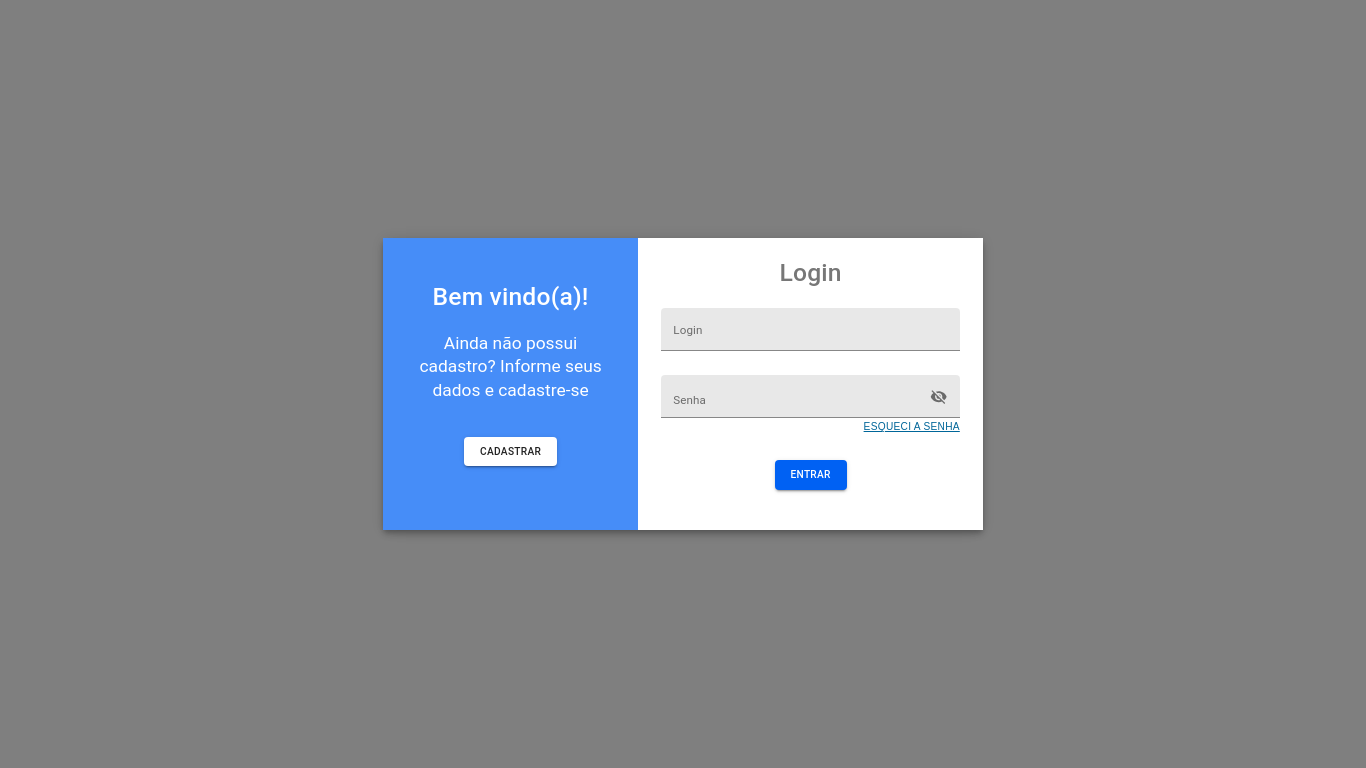
it: Should change modal content based on button clicks
Check: the field labelled "Login" is shown, box [661,308,960,351]
Check: the text "Cadastrar" is shown, box [480,442,541,460]
Click the button "Cadastrar". click: (511, 451)
box: [464,436,557,466]
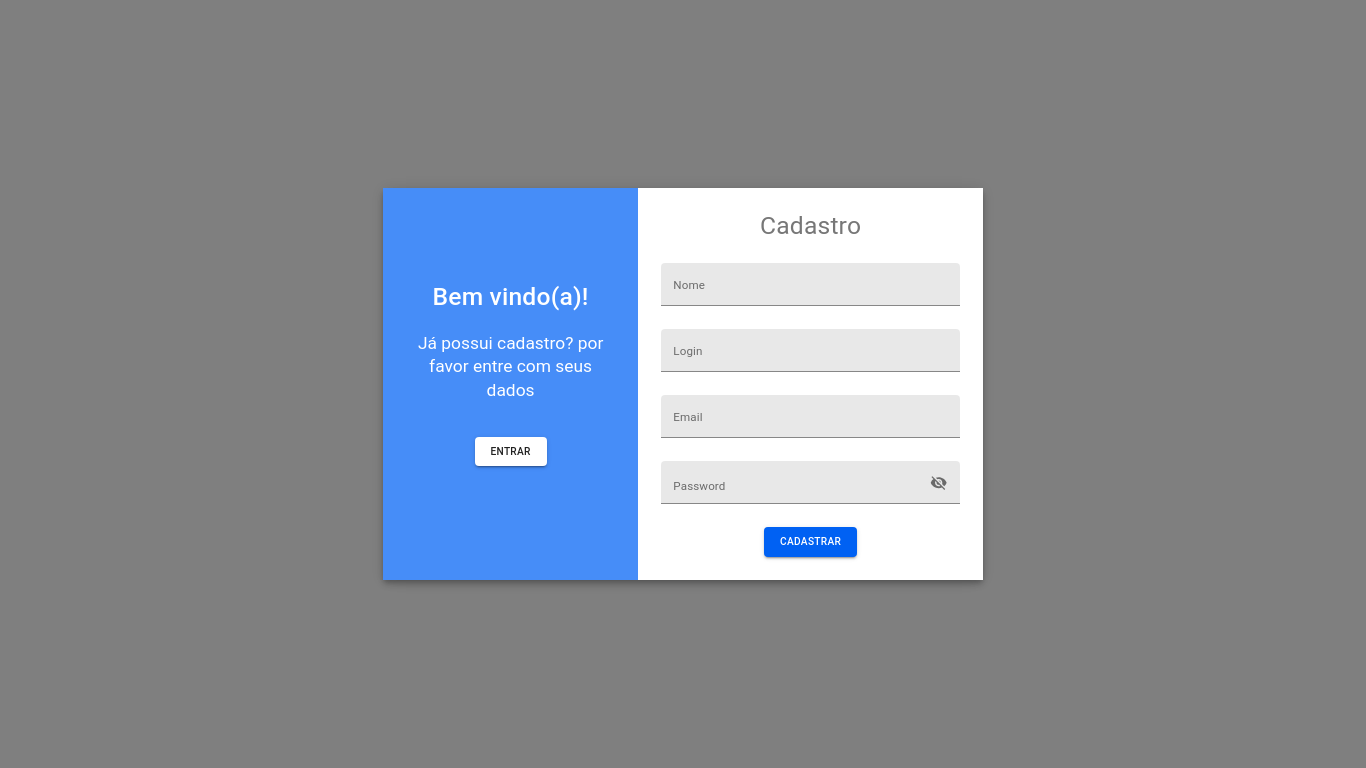
Check: the text "Entrar" is shown, box [490,443,531,460]
Check: the element with test id "form" is shown, box [638,188,983,580]
Click the button "Entrar". click: (511, 452)
box: [474,437,547,466]
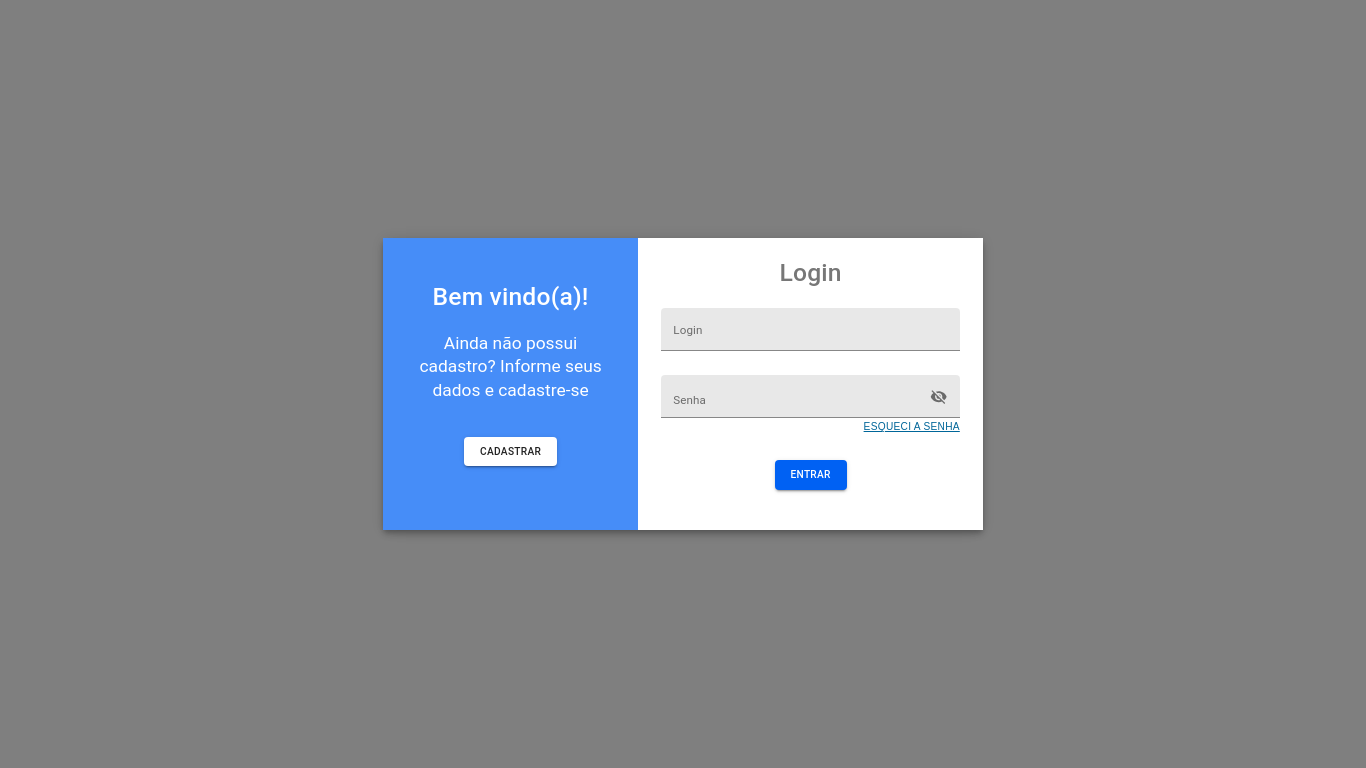
Check: the field labelled "Login" is shown, box [661,308,960,351]
Check: the text "Esqueci a Senha" is shown
Click the button "Esqueci a Senha". click: (912, 427)
box: [864,418,960,436]
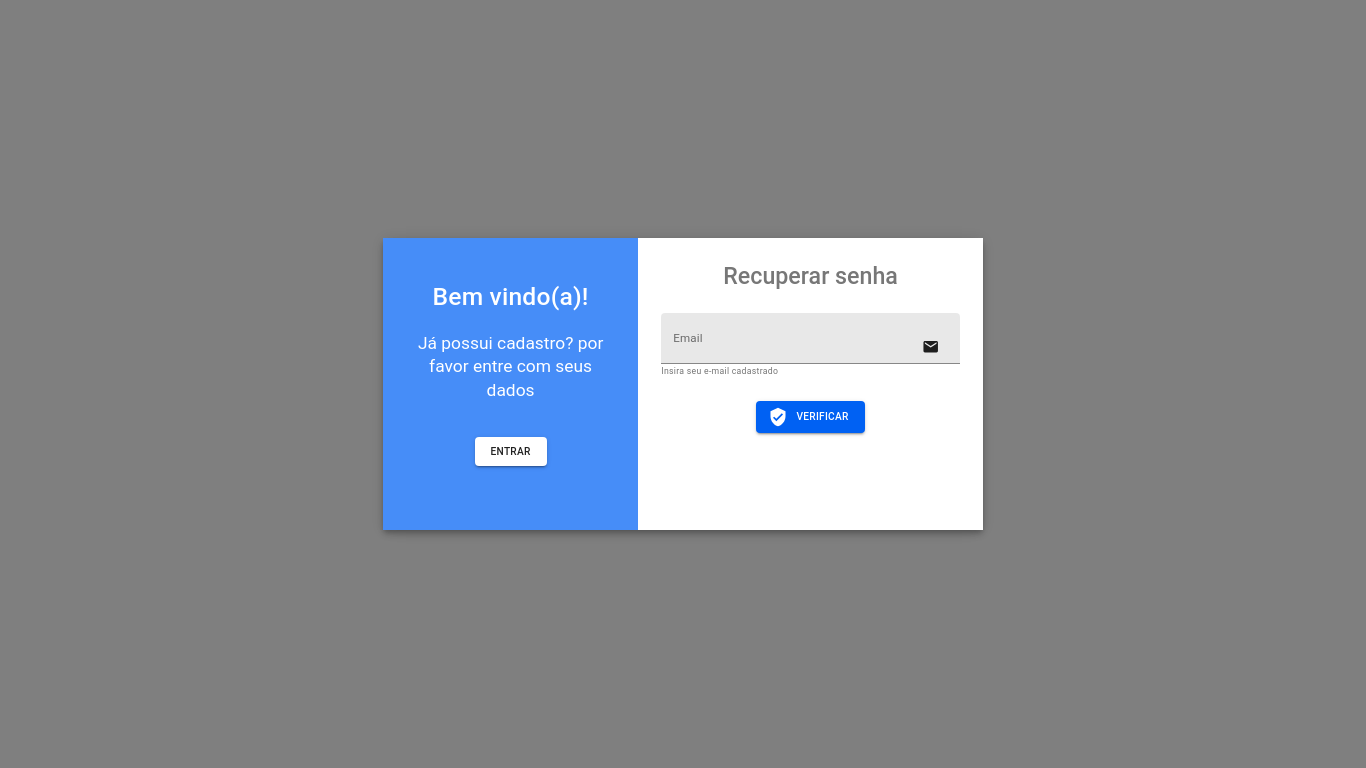
Check: the element named "Recuperar senha" is shown
